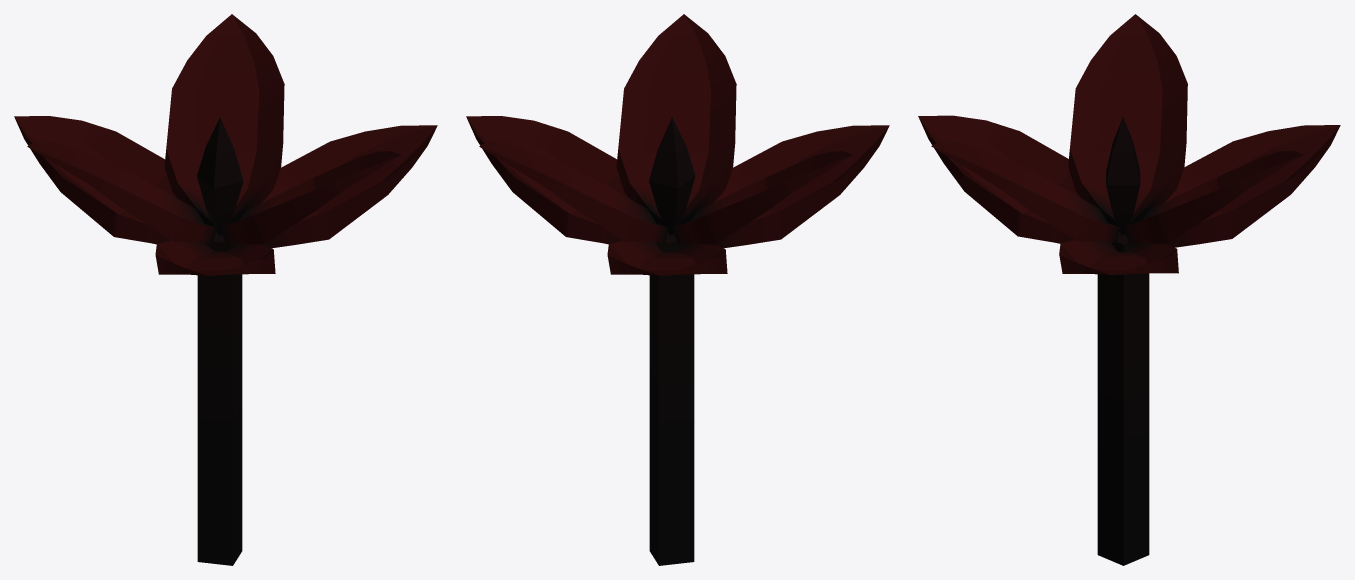
The model's file is SM_WildFlower_Var1.fbx.
3 renders of one model, left to right at view 1: azimuth 30°, elevation 25°; view 2: azimuth 150°, elevation 25°; view 3: azimuth 270°, elevation 25°, orthographic.
Parts seen in each view (by area): view 1: SM_WildFlower_Var1; view 2: SM_WildFlower_Var1; view 3: SM_WildFlower_Var1.
Boxes of the visible parts, bbox=[...] form: SM_WildFlower_Var1: bbox=[14, 14, 437, 565]; SM_WildFlower_Var1: bbox=[466, 14, 889, 565]; SM_WildFlower_Var1: bbox=[918, 14, 1340, 565].
Bounding box in the file's own units: 10.31 × 11.15 × 9.49.
